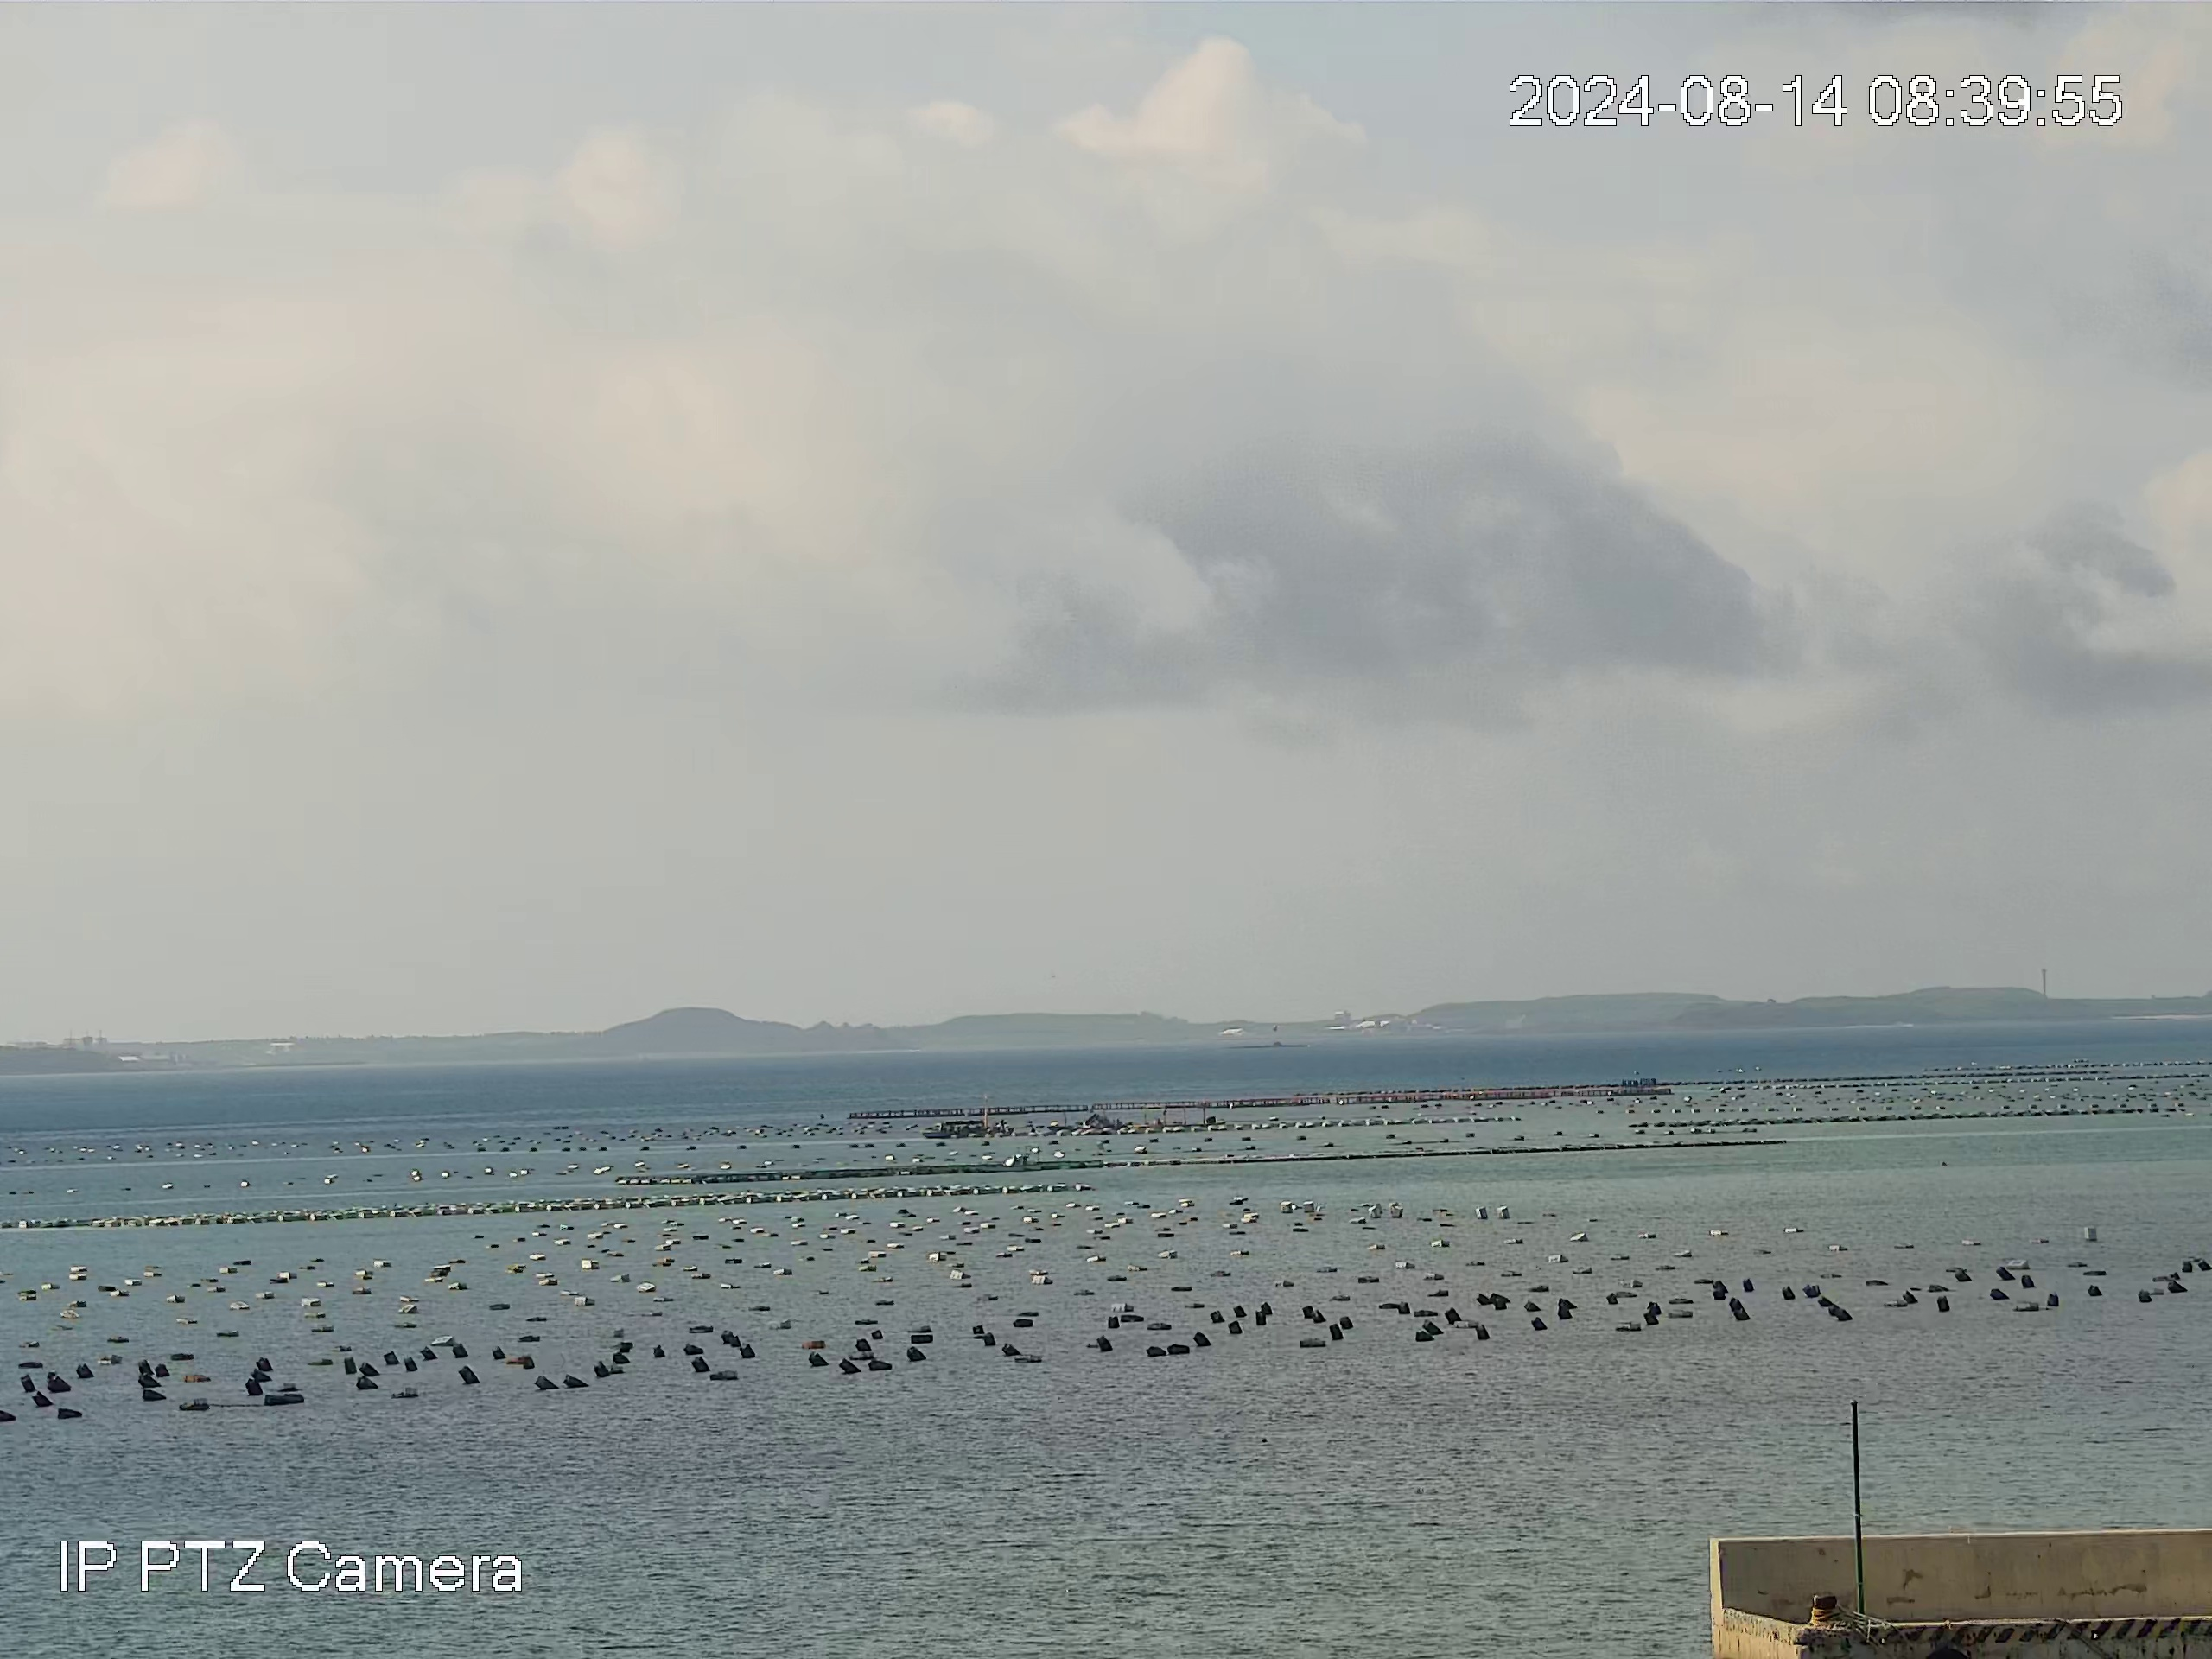boat: (923, 1121, 986, 1138)
